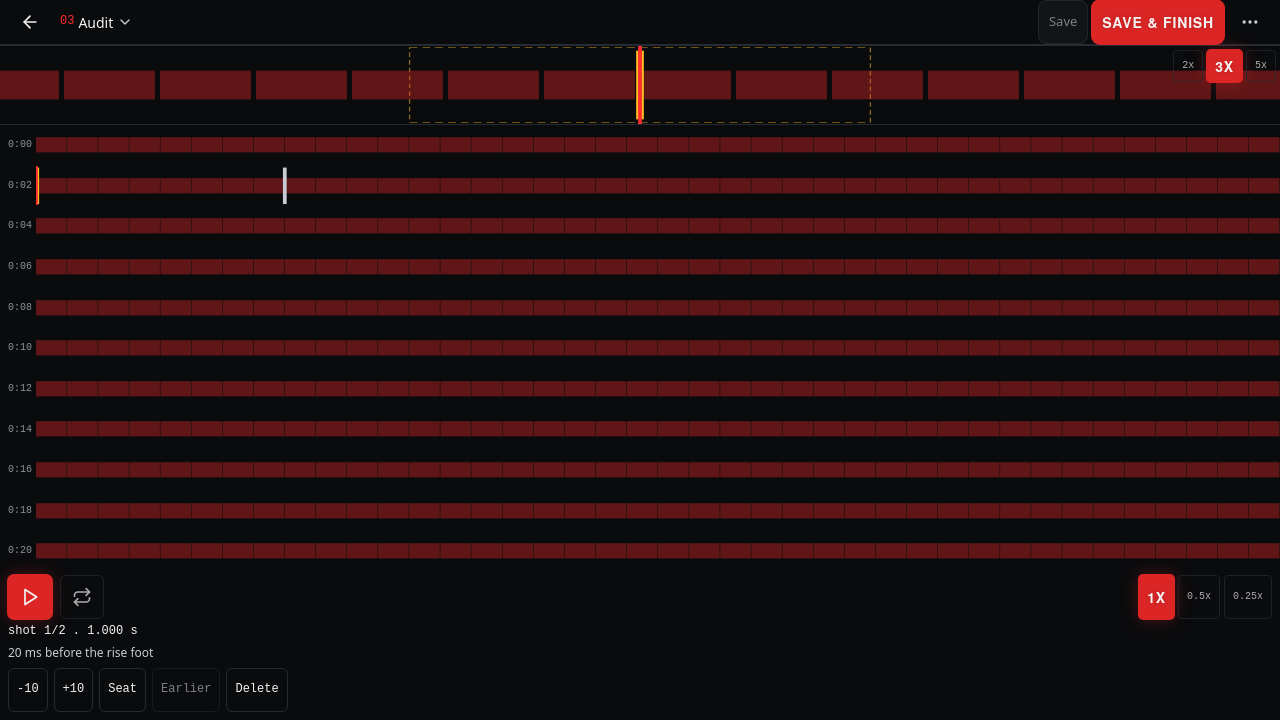
Test case: MobileAudit rise foot › a seat clears the nudge count from the readout
This screenshot has width=1280, height=720.
Expected: the button "Seat" is enabled, [99, 668, 146, 712]
Click the button named "+10 ms": (73, 690) [54, 668, 93, 712]
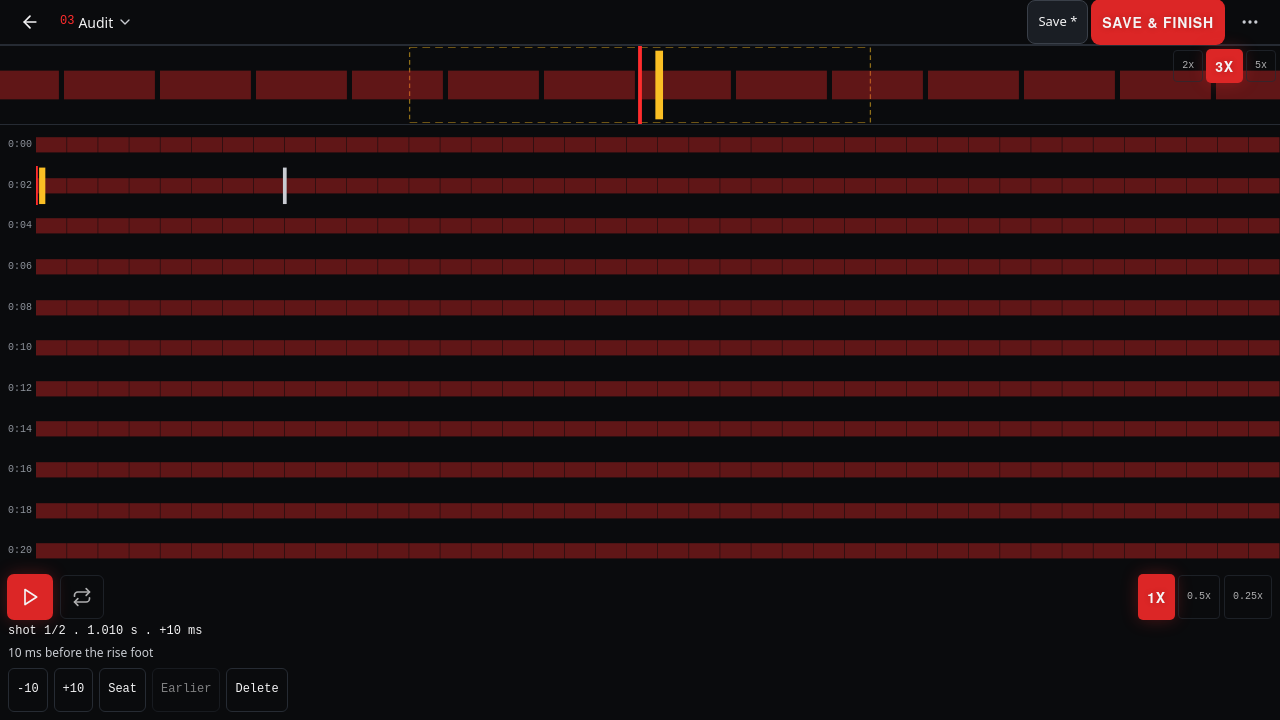
Now the text "shot 1/2 . 1.010 s . +10 ms" is shown, box [8, 624, 202, 638]
Click the button "Seat": (123, 690) [99, 668, 146, 712]
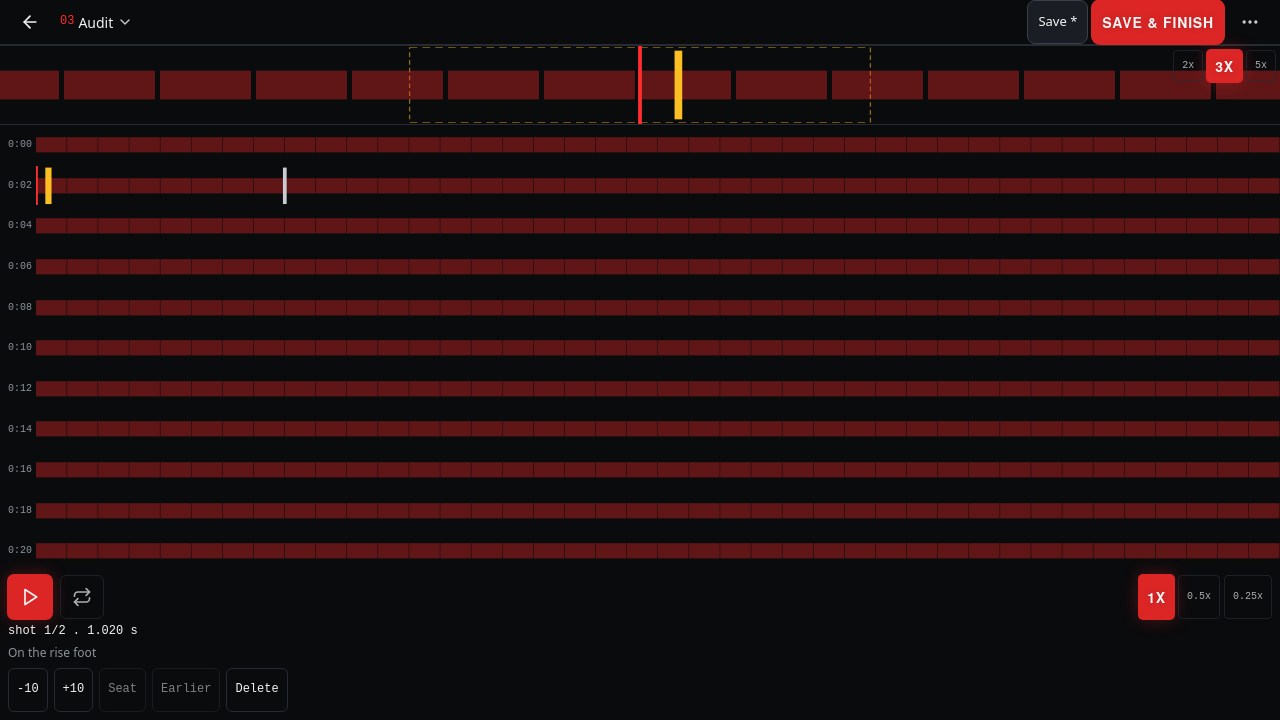
Now the text "ms" is gone
